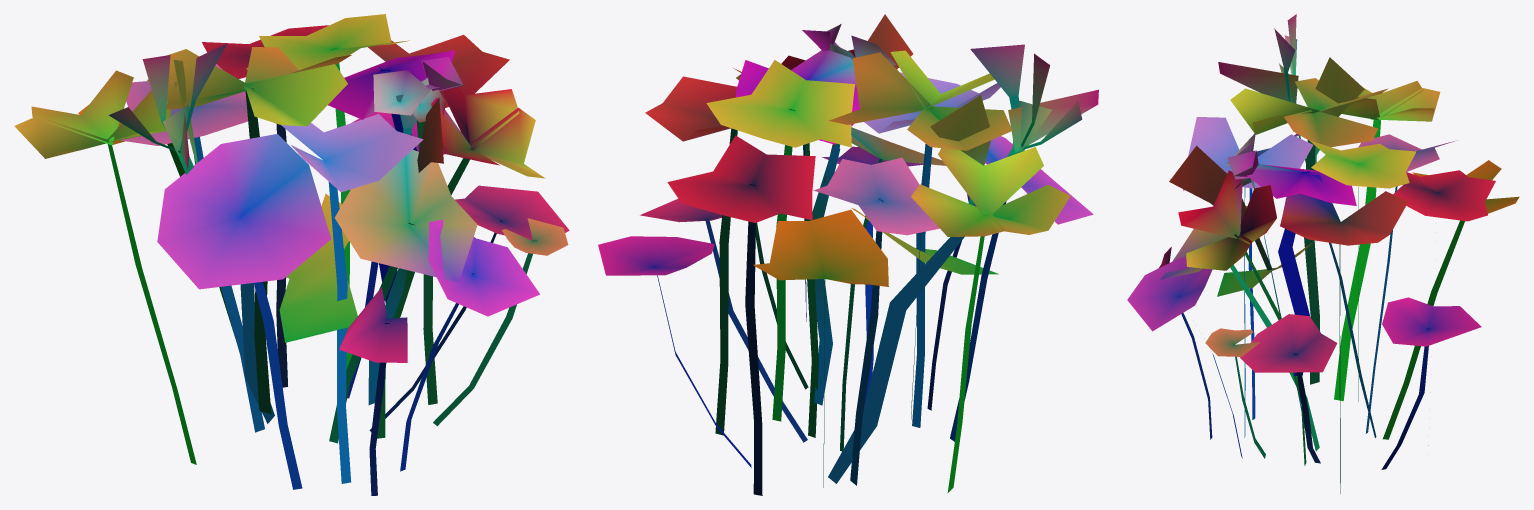
The model's file is Purple_Shamrock_rjrrH_Mid_rjrrH_VarC_LOD1.fbx.
3 renders of one model, left to right at view 1: azimuth 30°, elevation 25°; view 2: azimuth 150°, elevation 25°; view 3: azimuth 270°, elevation 25°, orthographic. The views are drawn at different scales.
Parts seen in each view (by area): view 1: _efa2_VarC_LOD2; view 2: _efa2_VarC_LOD2; view 3: _efa2_VarC_LOD2.
Boxes of the visible parts, <box> form: _efa2_VarC_LOD2: <box>14,14,569,495</box>; _efa2_VarC_LOD2: <box>598,14,1098,495</box>; _efa2_VarC_LOD2: <box>1127,14,1519,493</box>.
Size of the model in its own units: 39.98 by 36.73 by 36.38.
